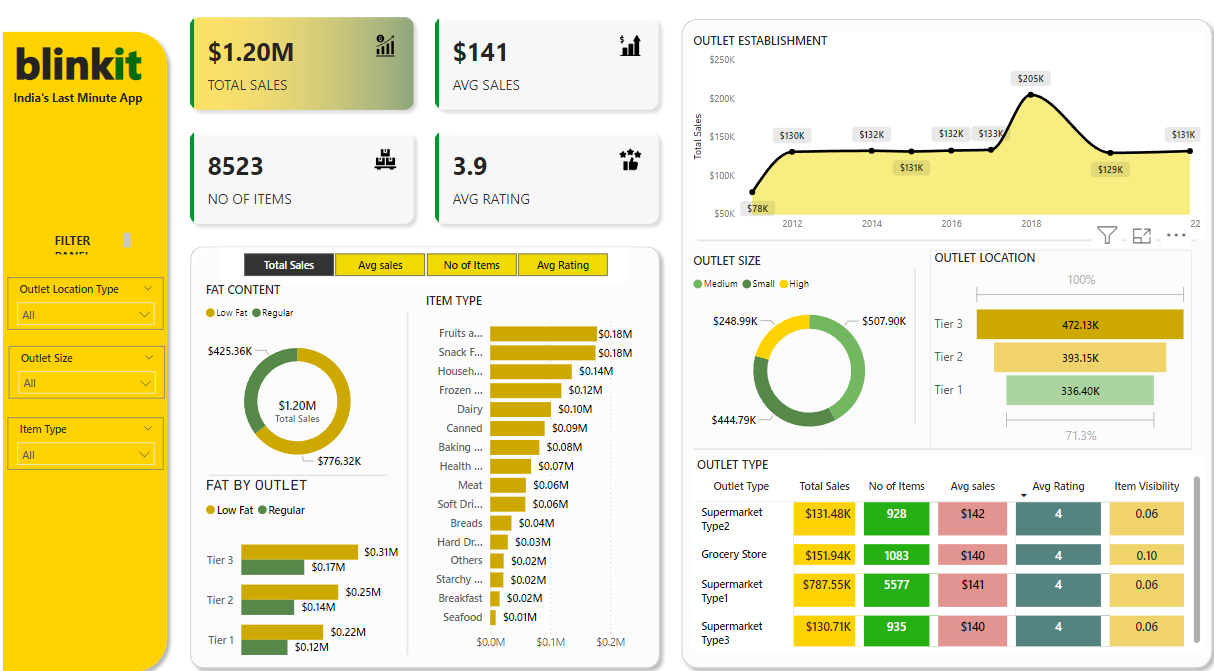

Layout of this report page (visuals, bound fields, positions):
{"tool":"powerbi","page":{"name":"Home","canvas":[1400,800],"ordinal":0},"visuals":[{"type":"shape","box":[0,31.4,205.7,750],"z":0},{"type":"textbox","box":[17.1,38,172.9,75.7],"z":1000},{"type":"textbox","box":[15.7,100.9,172.9,34.3],"z":2000},{"type":"cardVisual","fields":{"Data":["BlinkIT Grocery Data.Total Sales","BlinkIT Grocery Data.Avg sales","BlinkIT Grocery Data.No of Items","BlinkIT Grocery Data.Avg Rating"]},"box":[205.7,7.1,570,270],"z":3000},{"type":"shape","box":[214.3,277.1,554.3,500],"z":4000},{"type":"donutChart","title":"FAT CONTENT","fields":{"Y":["BlinkIT Grocery Data.Total Sales"],"Category":["BlinkIT Grocery Data.Item Fat Content"]},"box":[235.7,325.7,220,230],"z":5000},{"type":"slicer","fields":{"Values":["Metrics 2.Metrics"]},"box":[258.6,287.1,465.7,40],"z":6000},{"type":"cardVisual","fields":{"Data":["BlinkIT Grocery Data.Total Sales"]},"box":[292.9,441.4,105.7,57.1],"z":7000},{"type":"clusteredBarChart","title":"FAT BY OUTLET","fields":{"Y":["BlinkIT Grocery Data.Total Sales"],"Category":["BlinkIT Grocery Data.Outlet Location Type"],"Series":["BlinkIT Grocery Data.Item Fat Content"]},"box":[235.7,548.6,230,230],"z":8000},{"type":"shape","box":[244.3,527.1,204.3,41.4],"z":9000},{"type":"shape","box":[455.7,360,31.4,392.9],"z":10000},{"type":"barChart","title":"ITEM TYPE","fields":{"Category":["BlinkIT Grocery Data.Item Type"],"Y":["BlinkIT Grocery Data.Total Sales"]},"box":[487.1,338.6,262.9,418.6],"z":10001},{"type":"shape","box":[775.7,17.1,624.3,760],"z":10002},{"type":"lineChart","title":"OUTLET ESTABLISHMENT ","fields":{"Y":["BlinkIT Grocery Data.Total Sales"],"Category":["BlinkIT Grocery Data.Outlet Establishment Year"]},"box":[792.9,41.4,590,235.7],"z":10003},{"type":"shape","box":[802.9,258.6,570,41.4],"z":10004},{"type":"donutChart","title":"OUTLET SIZE","fields":{"Y":["BlinkIT Grocery Data.Total Sales"],"Category":["BlinkIT Grocery Data.Outlet Size"]},"box":[792.9,292.9,275.7,225.7],"z":10005},{"type":"shape","box":[1031.4,311.4,40,177.1],"z":10006},{"type":"funnel","title":"OUTLET LOCATION","fields":{"Y":["Sum(BlinkIT Grocery Data.Sales)"],"Category":["BlinkIT Grocery Data.Outlet Location Type"]},"box":[1068.6,290,300,228.6],"z":10007},{"type":"shape","box":[798.6,497.1,570,41.4],"z":10008},{"type":"pivotTable","title":"OUTLET TYPE ","fields":{"Rows":["BlinkIT Grocery Data.Outlet Type"],"Values":["BlinkIT Grocery Data.Total Sales","BlinkIT Grocery Data.No of Items","BlinkIT Grocery Data.Avg sales","BlinkIT Grocery Data.Avg Rating","Avg(BlinkIT Grocery Data.Item Visibility)"]},"box":[797.1,525.7,585.7,222.9],"z":10009},{"type":"slicer","fields":{"Values":["BlinkIT Grocery Data.Outlet Location Type"]},"box":[14.3,321.7,178.6,60],"z":10010},{"type":"slicer","fields":{"Values":["BlinkIT Grocery Data.Outlet Size"]},"box":[15.7,400.3,178.6,60],"z":10011},{"type":"slicer","fields":{"Values":["BlinkIT Grocery Data.Item Type"]},"box":[14.3,481.7,178.6,60],"z":10012},{"type":"textbox","box":[62.9,266,97.1,34.3],"z":10013}]}

Visuals, with their boxes on the page's 1400x800 design canvas (x1, y1, x2, y2). These are canvas units, not pixel positions in the 1214x671 screenshot, which may show the page scaled, cropped or inside an application window:
shape: crop(0, 31, 206, 781)
textbox: crop(17, 38, 190, 114)
textbox: crop(16, 101, 189, 135)
cardVisual - BlinkIT Grocery Data.Total Sales x BlinkIT Grocery Data.Avg sales: crop(206, 7, 776, 277)
shape: crop(214, 277, 769, 777)
"FAT CONTENT" donutChart: crop(236, 326, 456, 556)
slicer - Metrics 2.Metrics: crop(259, 287, 724, 327)
cardVisual - BlinkIT Grocery Data.Total Sales: crop(293, 441, 399, 498)
"FAT BY OUTLET" clusteredBarChart: crop(236, 549, 466, 779)
shape: crop(244, 527, 449, 568)
shape: crop(456, 360, 487, 753)
"ITEM TYPE" barChart: crop(487, 339, 750, 757)
shape: crop(776, 17, 1400, 777)
"OUTLET ESTABLISHMENT " lineChart: crop(793, 41, 1383, 277)
shape: crop(803, 259, 1373, 300)
"OUTLET SIZE" donutChart: crop(793, 293, 1069, 519)
shape: crop(1031, 311, 1071, 488)
"OUTLET LOCATION" funnel: crop(1069, 290, 1369, 519)
shape: crop(799, 497, 1369, 538)
"OUTLET TYPE " pivotTable: crop(797, 526, 1383, 749)
slicer - BlinkIT Grocery Data.Outlet Location Type: crop(14, 322, 193, 382)
slicer - BlinkIT Grocery Data.Outlet Size: crop(16, 400, 194, 460)
slicer - BlinkIT Grocery Data.Item Type: crop(14, 482, 193, 542)
textbox: crop(63, 266, 160, 300)
